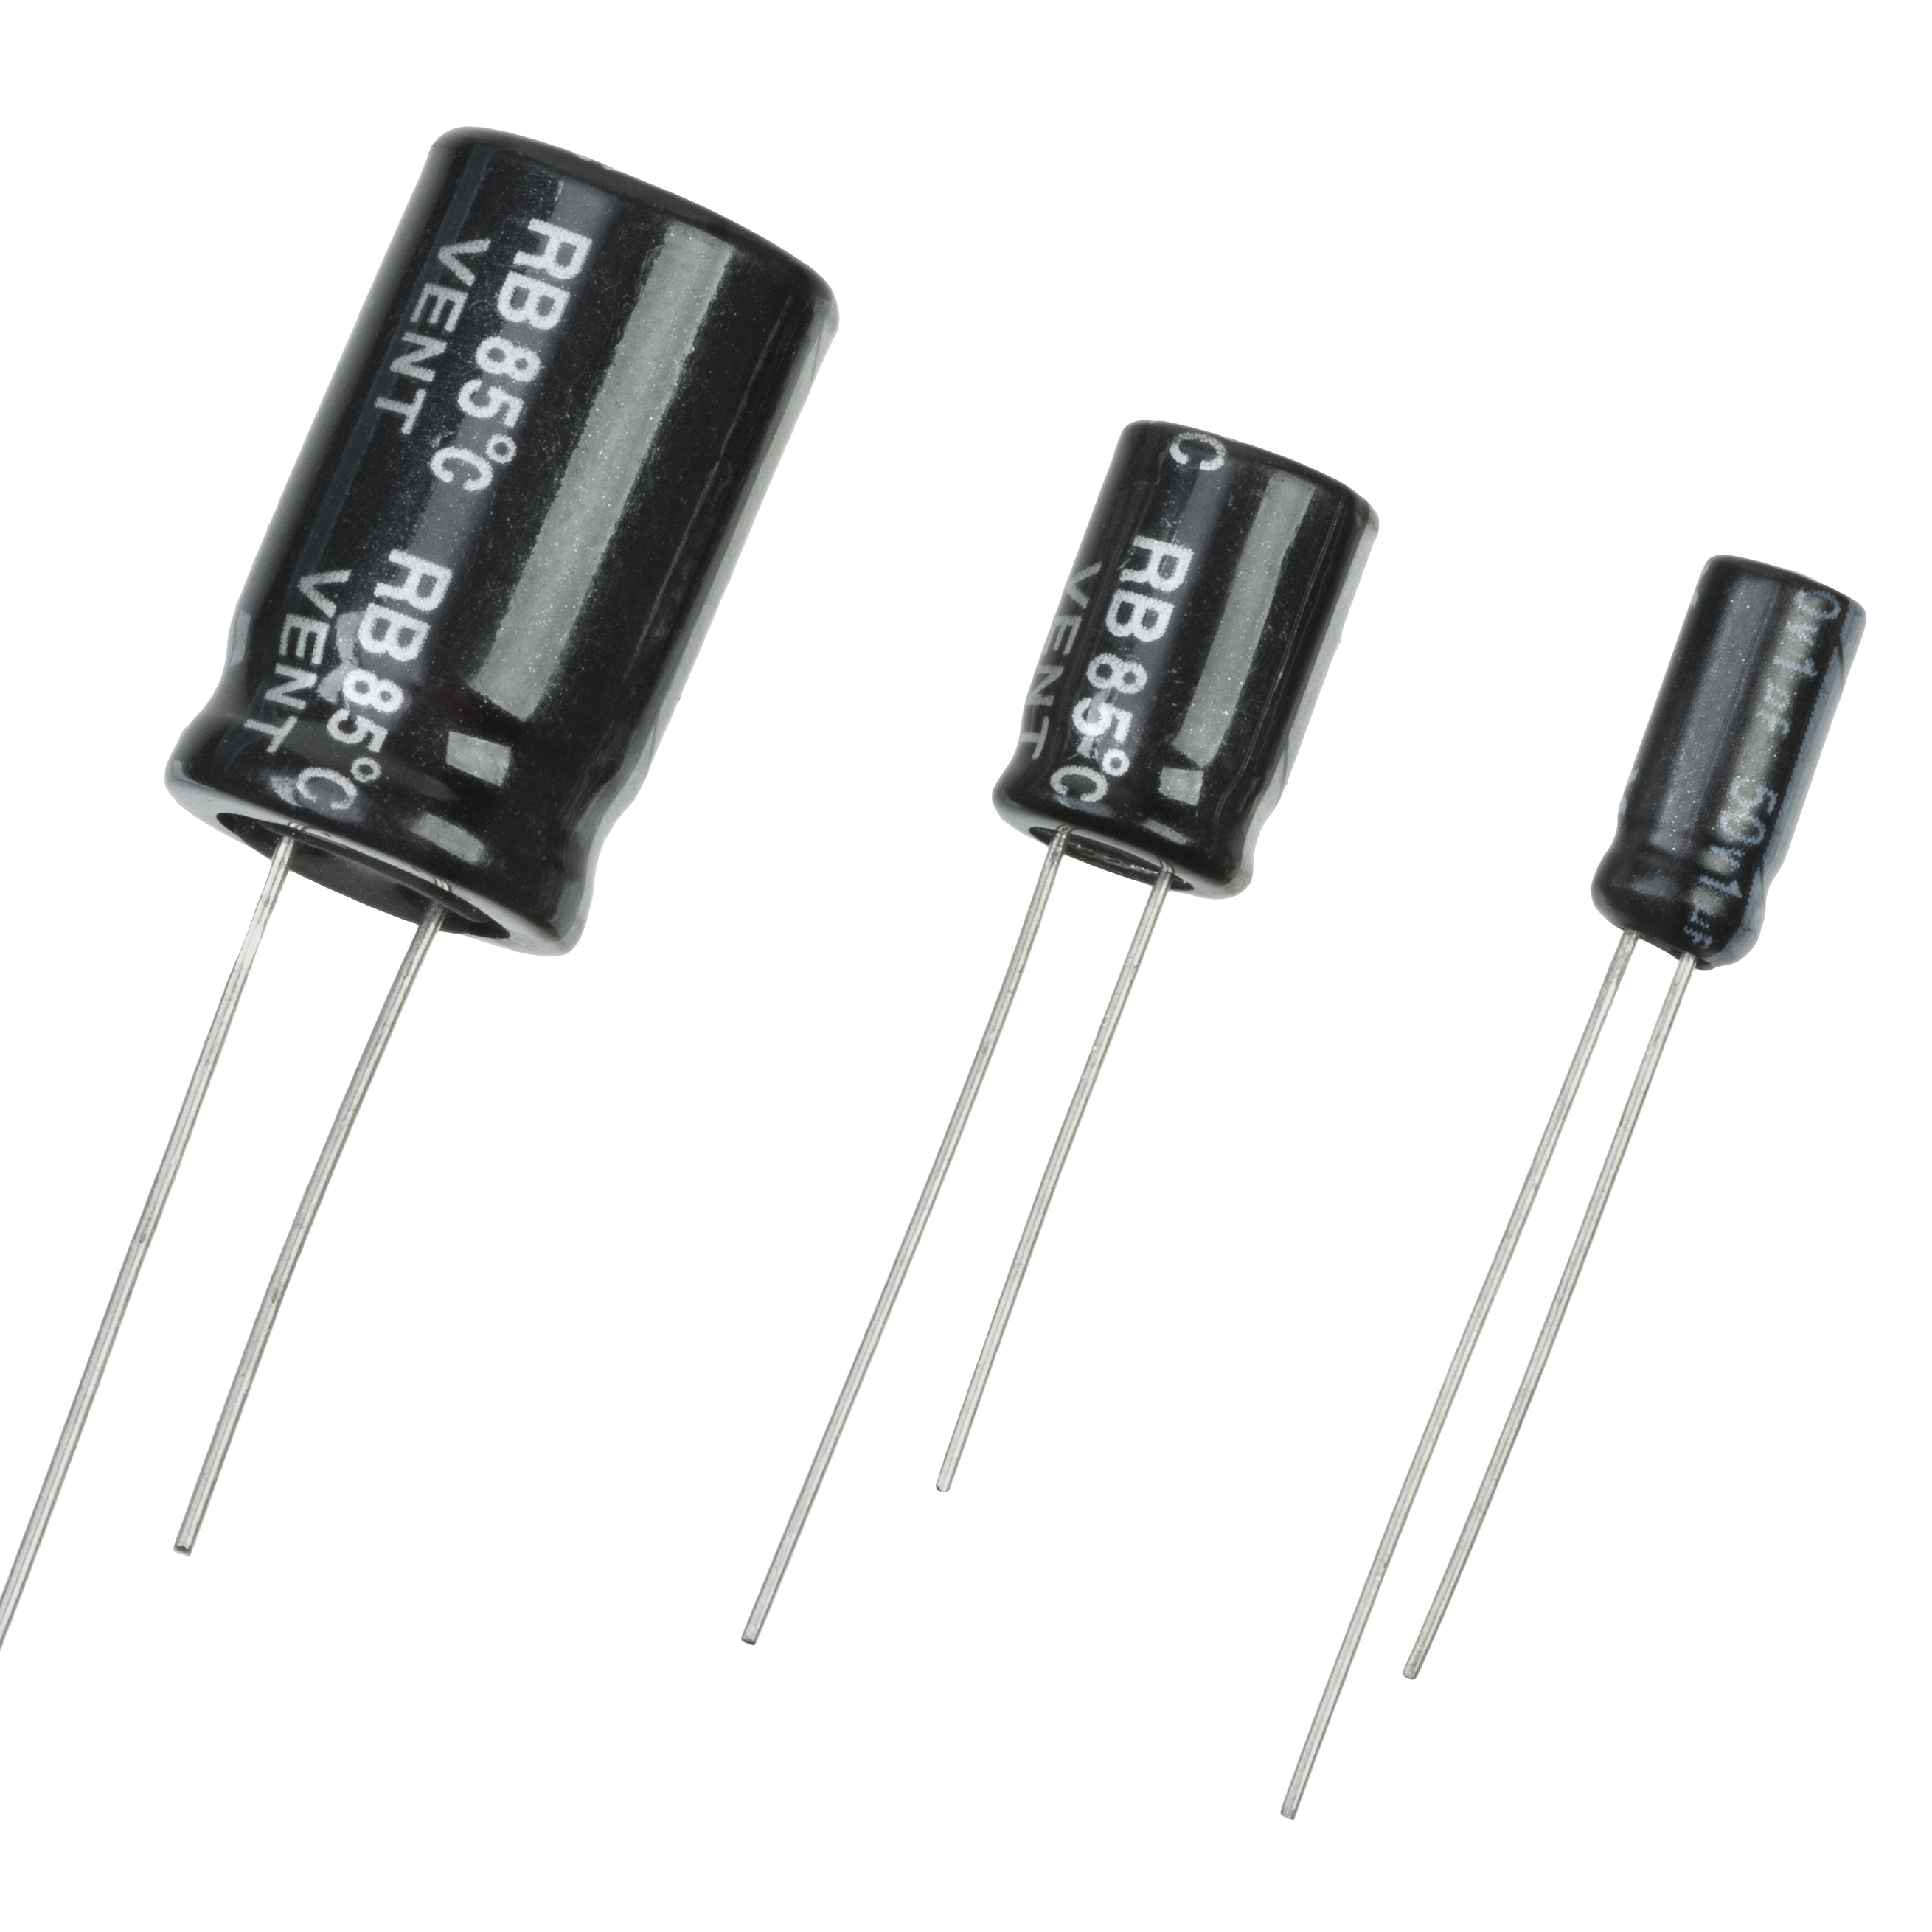Capacitor: (168, 126, 840, 957), (991, 419, 1382, 897), (1591, 554, 1870, 968)
